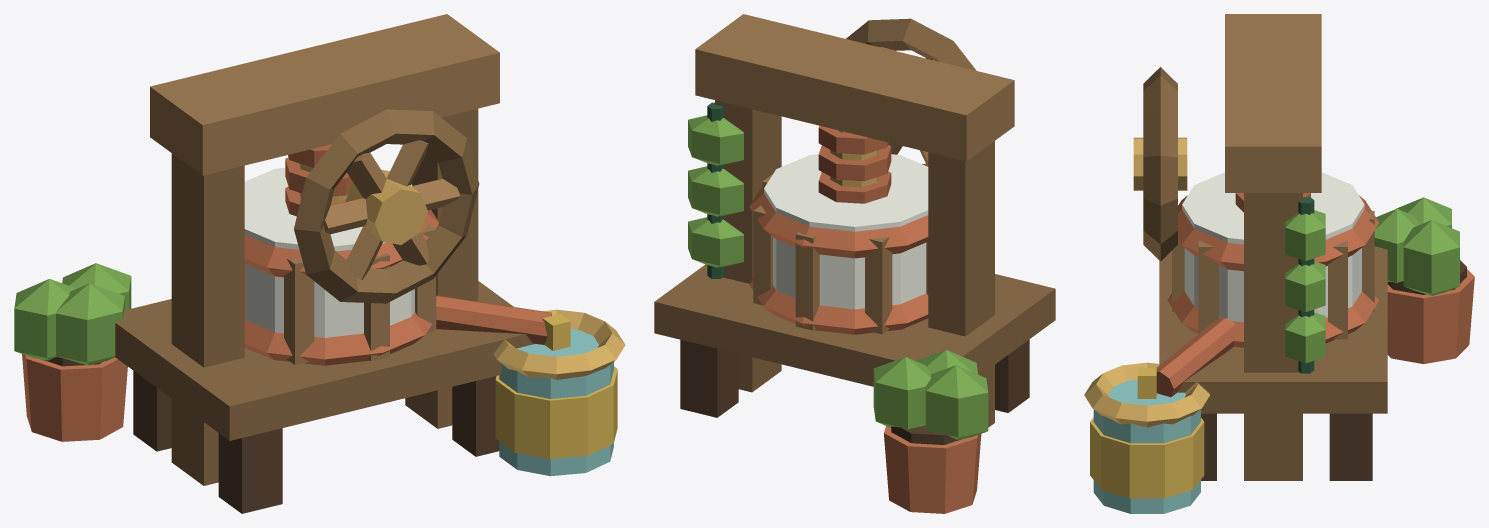
File: oil_press.glb
The picture shows the model from 3 angles, left to right: view 1: azimuth 30°, elevation 25°; view 2: azimuth 150°, elevation 25°; view 3: azimuth 270°, elevation 25°; orthographic projection. The views are drawn at different scales.
Parts seen in each view (by area): view 1: Press_top_crossbeam, move_spin_press_wheel, Press_workbench, Press_timber_column, Press_ceramic_basket, Press_golden_oil_window, decor_Terracotta_planter, Press_timber_column.001, Press_sea_glass_jar, Press_workbench_foot, decor_Living_leaves.002, Press_copper_basket_band (+12 smaller); view 2: Press_top_crossbeam, Press_workbench, Press_ceramic_basket, Press_timber_column, decor_Terracotta_planter, Press_timber_column.001, Press_copper_basket_band.001, decor_Living_leaves, Press_workbench_foot.003, Press_copper_basket_band, decor_Living_leaves.001, move_spin_press_wheel (+14 smaller); view 3: Press_top_crossbeam, Press_workbench, Press_timber_column.001, Press_ceramic_basket, move_spin_press_wheel, Press_golden_oil_window, decor_Terracotta_planter, Press_sea_glass_jar, decor_Living_leaves.001, Press_jar_lip, Press_copper_basket_band.001, Press_workbench_foot.003 (+14 smaller).
Part boxes in pixels (x1,y1,x2,y2): Press_top_crossbeam: (150,14,499,175); move_spin_press_wheel: (294,109,479,303); Press_workbench: (114,281,535,440); Press_timber_column: (171,153,244,485); Press_ceramic_basket: (244,167,414,337); Press_golden_oil_window: (495,366,617,459); decor_Terracotta_planter: (22,354,127,441); Press_timber_column.001: (405,108,478,428); Press_sea_glass_jar: (499,328,613,476); Press_workbench_foot: (218,428,282,513); decor_Living_leaves.002: (56,283,124,365); Press_copper_basket_band: (244,311,431,365); Press_top_crossbeam: (695,14,1014,161); Press_workbench: (654,264,1055,386); Press_ceramic_basket: (764,154,928,309); Press_timber_column: (928,141,994,427); decor_Terracotta_planter: (884,426,981,513); Press_timber_column.001: (715,100,781,392); Press_copper_basket_band.001: (749,184,928,258); decor_Living_leaves: (925,365,988,439); Press_workbench_foot.003: (680,339,738,417); Press_copper_basket_band: (749,278,928,334); decor_Living_leaves.001: (873,357,931,429); move_spin_press_wheel: (846,18,976,166); Press_top_crossbeam: (1225,14,1321,192); Press_workbench: (1159,246,1387,413); Press_timber_column.001: (1244,193,1302,480); Press_ceramic_basket: (1182,172,1364,322); move_spin_press_wheel: (1133,67,1187,261); Press_golden_oil_window: (1090,417,1204,498); decor_Terracotta_planter: (1387,269,1474,363); Press_sea_glass_jar: (1093,379,1200,513); decor_Living_leaves.001: (1403,220,1459,295); Press_jar_lip: (1084,362,1209,427); Press_copper_basket_band.001: (1178,195,1379,271); Press_workbench_foot.003: (1329,413,1372,480).
Size of the model in its own units: 1.77 by 1.42 by 1.46.
